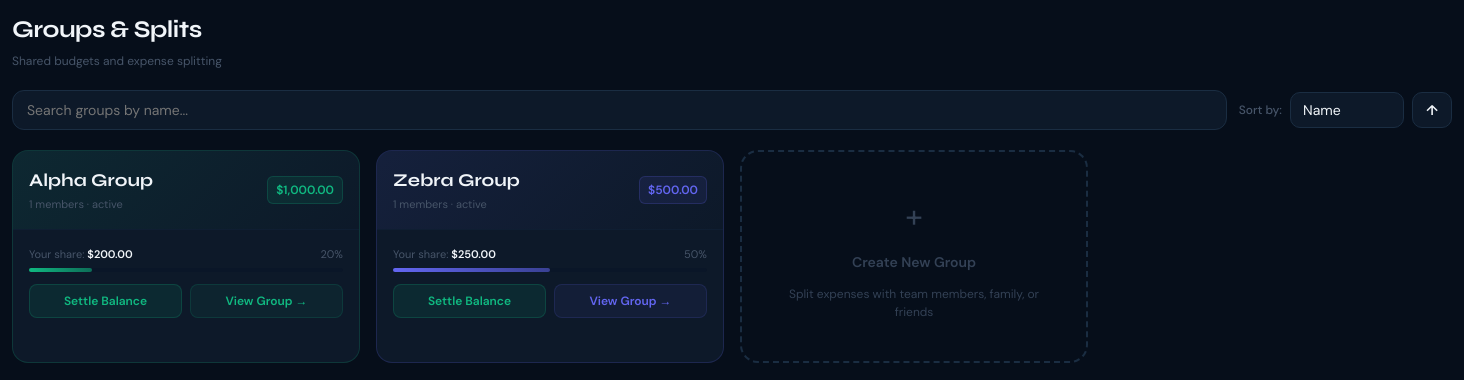
GroupsPage - Filtering & Sorting › filters groups by name correctly
In the field with placeholder "Search groups by name...": [619, 110] box [12, 90, 1227, 130], type "Alpha"
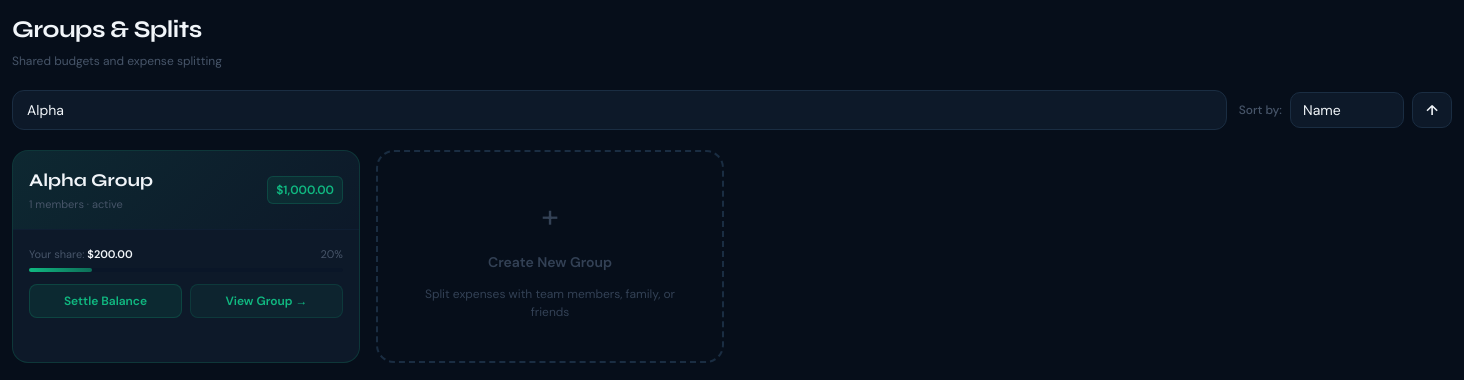
Expected: the text "Alpha Group" is shown, [29, 167, 153, 194]
Now the text "Zebra Group" is gone
